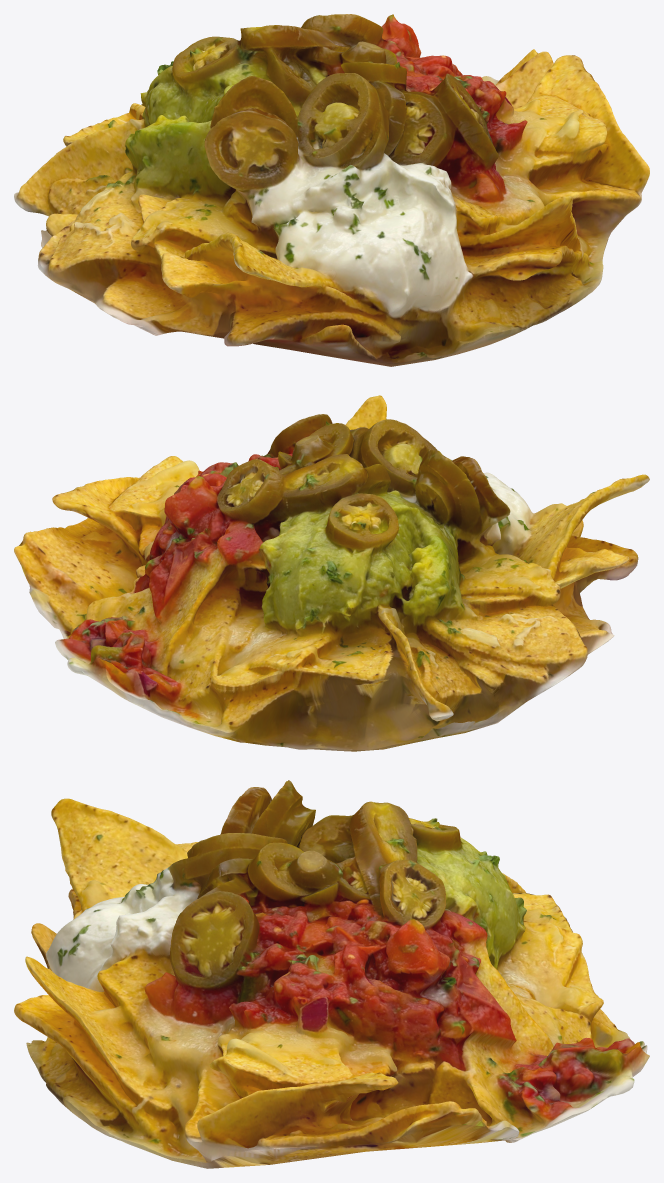
File: asset.glb
3 views of the same model, one above another, from view 1: azimuth 30°, elevation 25°; view 2: azimuth 150°, elevation 25°; view 3: azimuth 270°, elevation 25° (orthographic). The views are drawn at different scales.
Visible parts, largest first — view 1: Object_2, Object_3; view 2: Object_2, Object_3; view 3: Object_2, Object_3.
Part boxes in pixels (x1=…): Object_2: x1=15, y1=14, x2=649, y2=366; Object_3: x1=14, y1=15, x2=649, y2=362; Object_2: x1=14, y1=395, x2=647, y2=751; Object_3: x1=14, y1=395, x2=649, y2=749; Object_2: x1=14, y1=780, x2=649, y2=1164; Object_3: x1=25, y1=787, x2=649, y2=1168.
Bounding box in the file's own units: 205 × 84.98 × 190.
Materials: 1 (1 with a texture image).
